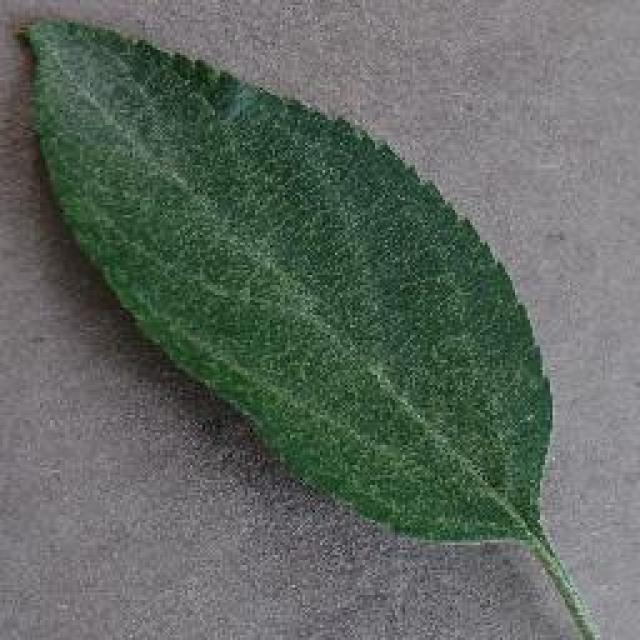apple healthy: (13, 10, 615, 638)
